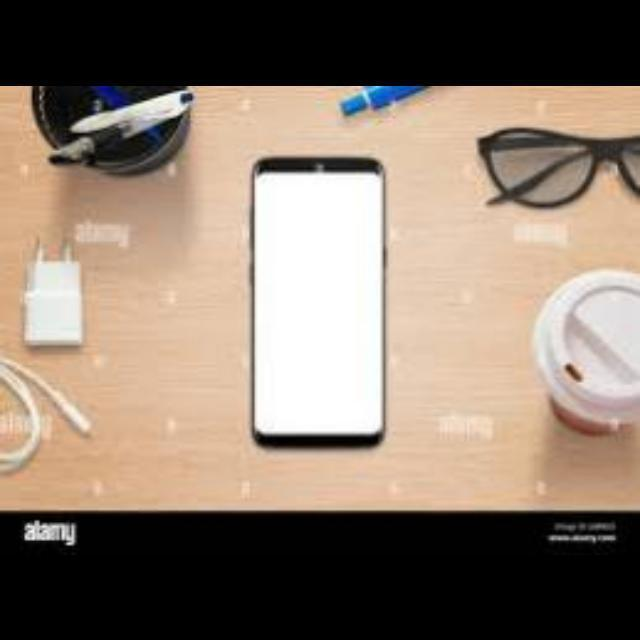phone: (249, 156, 386, 448)
